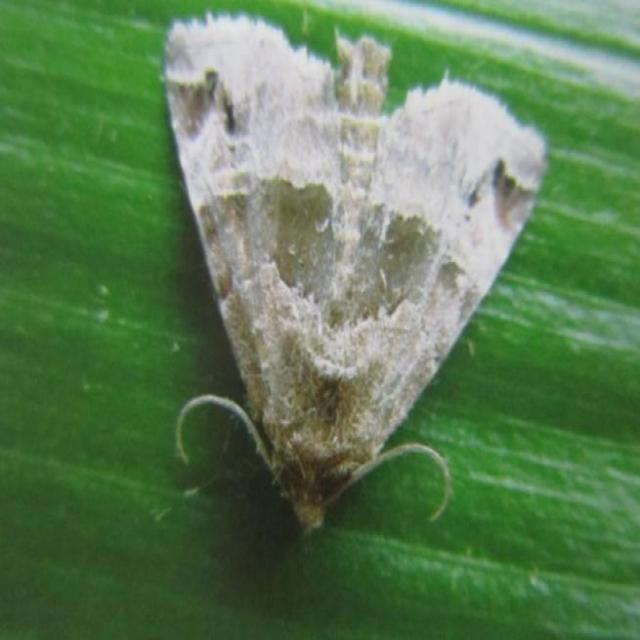BeetArmyWorm-Adult-: (147, 10, 552, 539)
